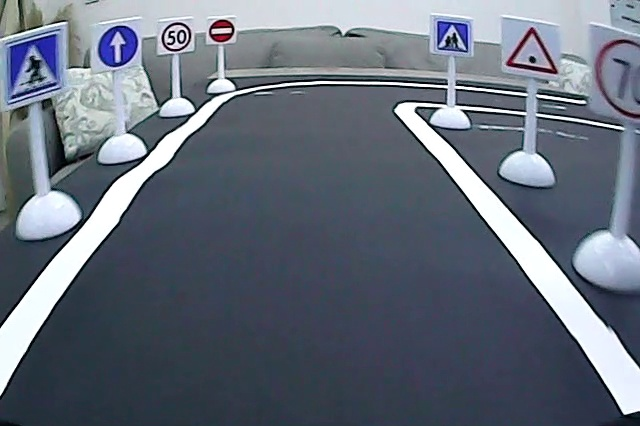do not enter: (208, 16, 236, 44)
green light: (503, 23, 561, 79)
pedestrian crossing: (3, 32, 65, 99)
school crossing: (433, 18, 473, 53)
speed limit 50: (160, 20, 192, 52)
